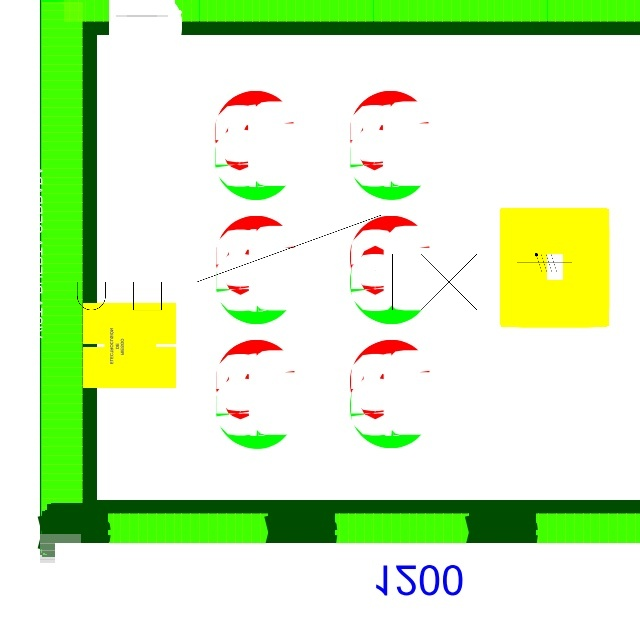interruptor_termomagnetico: (30, 203, 517, 322)
